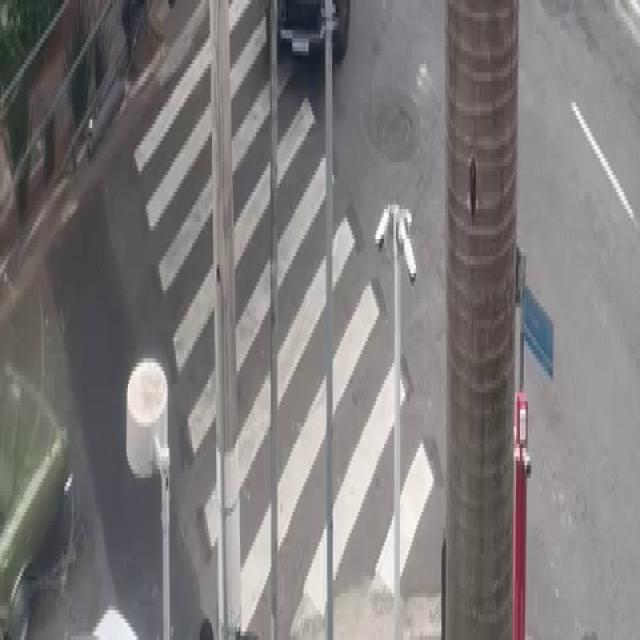car: (0, 350, 69, 638)
